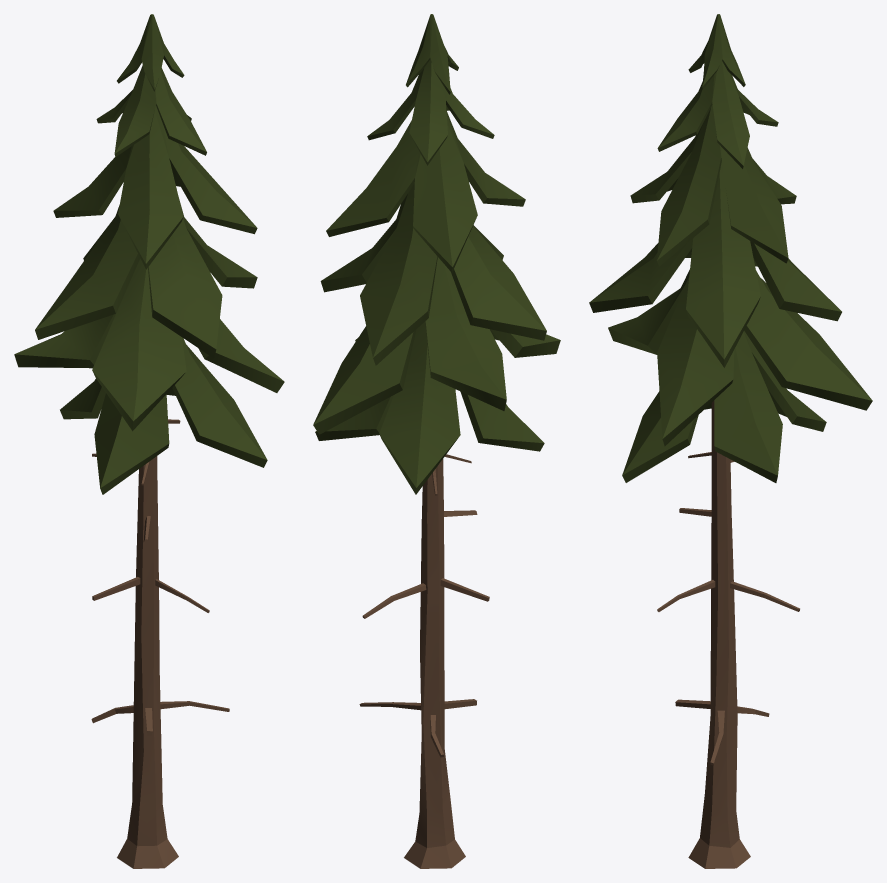
The model's file is FirD.fbx.
The picture shows the model from 3 angles, left to right: view 1: azimuth 30°, elevation 25°; view 2: azimuth 150°, elevation 25°; view 3: azimuth 270°, elevation 25°; orthographic projection.
Visible parts, largest first — view 1: FirD; view 2: FirD; view 3: FirD.
Boxes of the visible parts, <box> form: FirD: <box>14,14,284,868</box>; FirD: <box>313,14,560,868</box>; FirD: <box>589,14,872,868</box>.
Bounding box in the file's own units: 1032 × 3694 × 1125.
